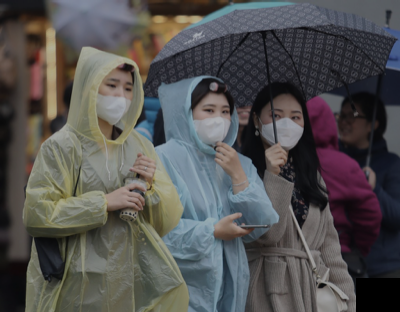with_mask: (96, 74, 136, 127), (259, 105, 305, 151), (193, 100, 234, 146)
without_mask: (334, 106, 367, 144)
